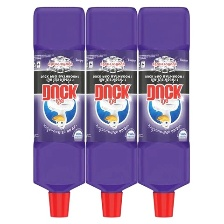cleaning_solution: (134, 4, 191, 220), (31, 4, 88, 220), (83, 4, 139, 220)
